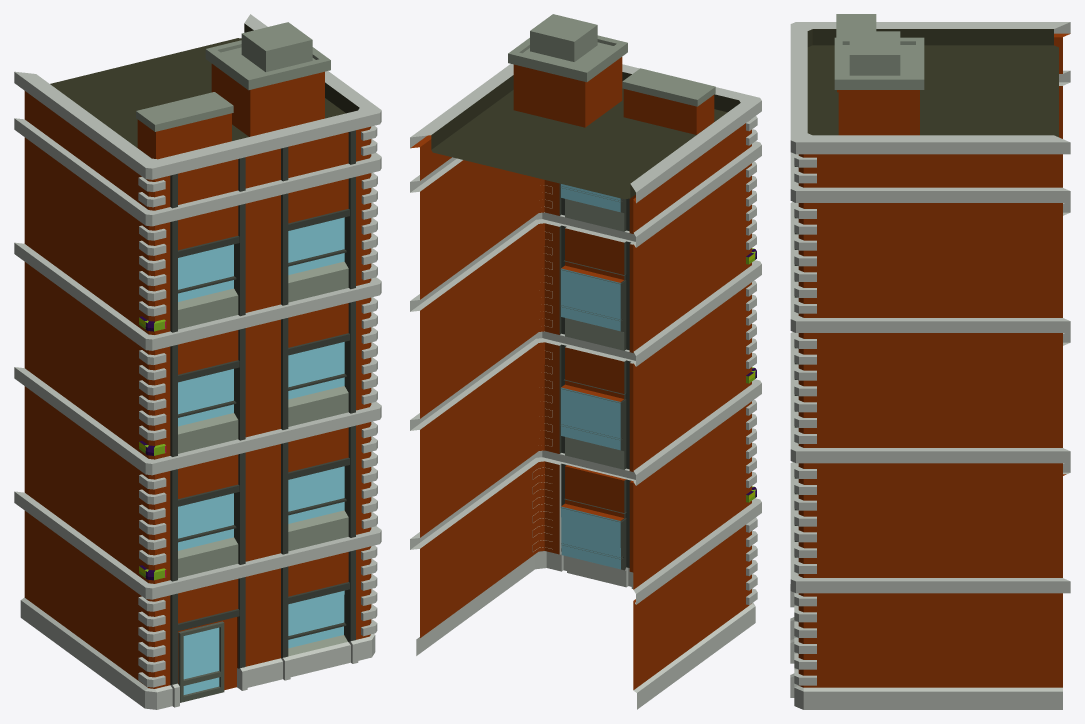
File: House4.3.fbx
3 views of the same model, side by side, from view 1: azimuth 30°, elevation 25°; view 2: azimuth 150°, elevation 25°; view 3: azimuth 270°, elevation 25° (orthographic). The views are drawn at different scales.
Visible parts, largest first — view 1: House3.002; view 2: House3.002; view 3: House3.002.
Part boxes in pixels (x1,y1,x2,y2): House3.002: [14, 14, 381, 709]; House3.002: [410, 14, 761, 709]; House3.002: [790, 14, 1070, 709].
Bounding box in the file's own units: 795 × 1950 × 782.
1 material, 1 textured.
